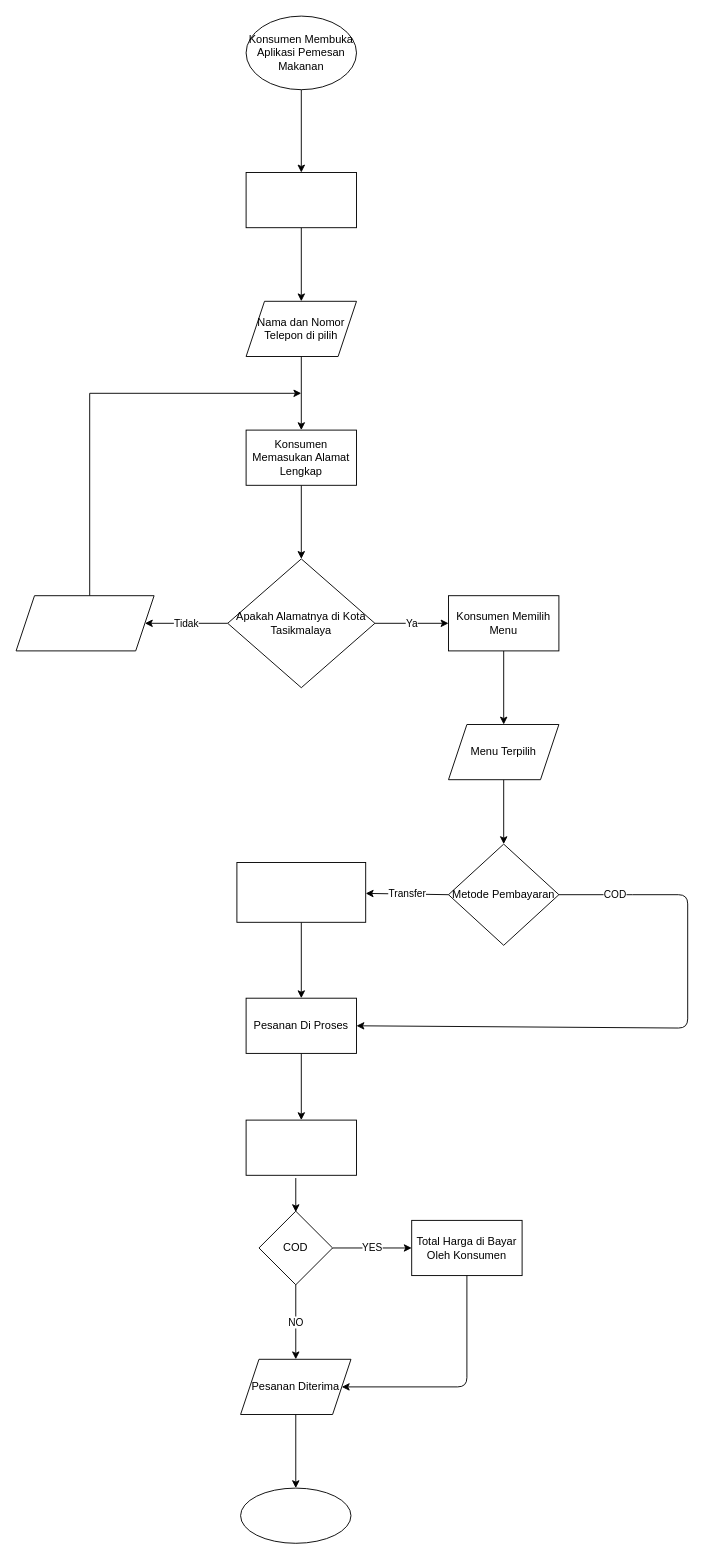
This 711x1559 diagram has some shape labels left out. Here are the shapes that lost their labels. From the top down, the centre of each, then its label:
At (300,200): "Konsumen Memasukan Nama Lengkap dan Nomor Telepon".
At (84,623): "Alamat Tidak Bisa Di Jangkau".
At (301,892): "Konsumen Membayar Total Harga".
At (300,1147): "Pesanan di Antarkan Oleh Kurir".
At (295,1515): "END".
